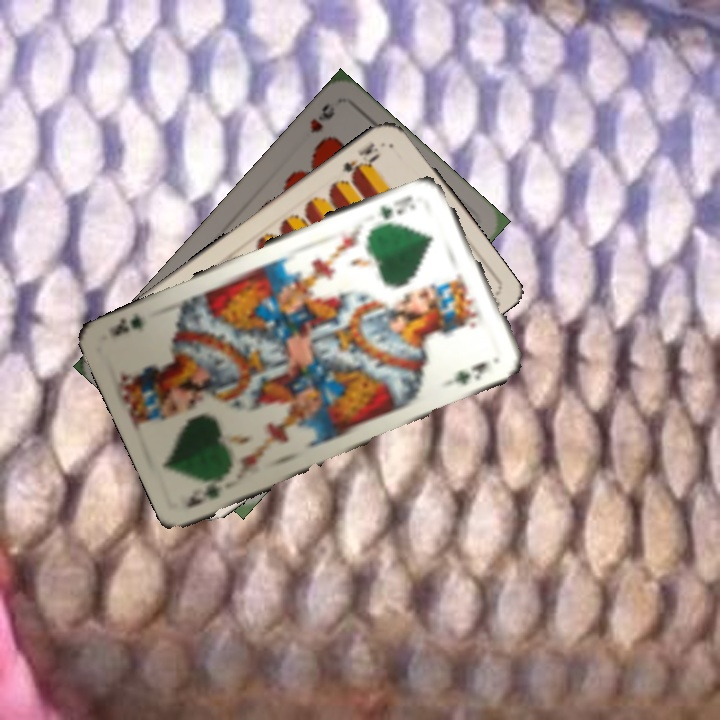E10: (337, 138, 383, 185)
GK: (181, 473, 228, 511), (375, 191, 419, 223)
H9: (306, 99, 338, 136)
